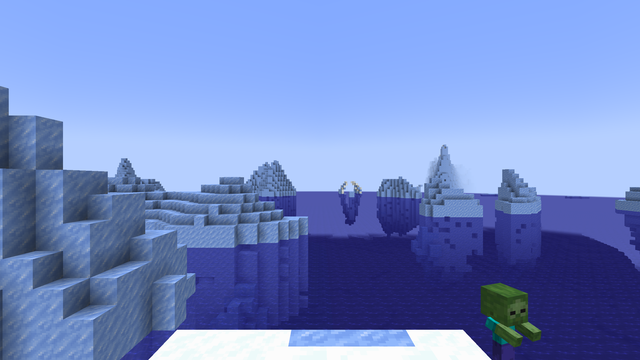zombies: (485, 295, 522, 357)
